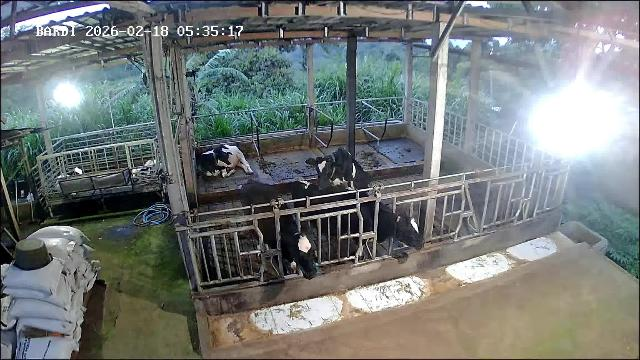mounting: (309, 149, 370, 221)
